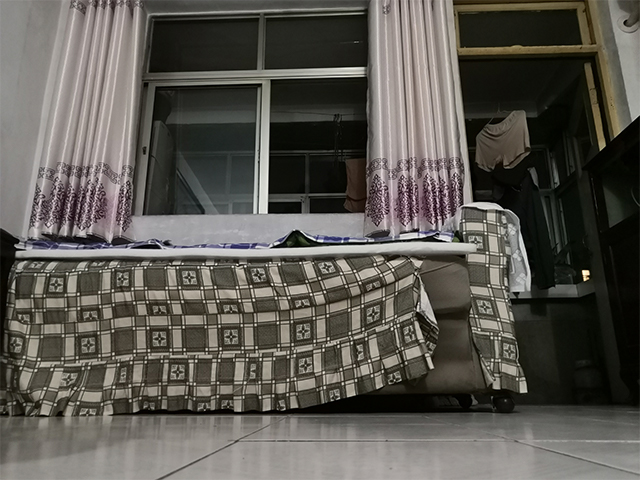bed: (1, 198, 535, 420)
cabinet: (579, 115, 640, 409)
curtain: (20, 2, 139, 244), (362, 1, 466, 237)
